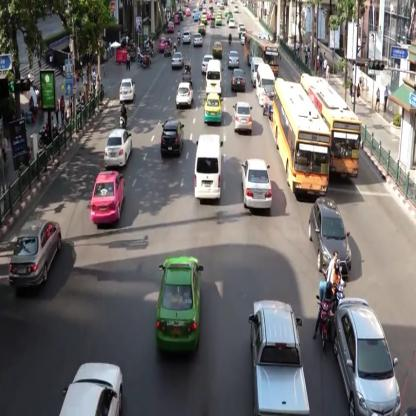bus: (273, 80, 330, 192), (302, 74, 359, 178), (246, 27, 278, 74)
car: (334, 301, 401, 415), (251, 297, 310, 415), (158, 257, 202, 351), (308, 198, 351, 278), (60, 362, 124, 415), (10, 218, 61, 284), (92, 169, 126, 224), (240, 158, 273, 209), (103, 128, 132, 171), (160, 118, 184, 155), (234, 100, 253, 131), (205, 93, 223, 122), (175, 81, 193, 106), (121, 78, 136, 101), (230, 66, 245, 89), (172, 50, 183, 68), (230, 48, 239, 68)
motocycle: (319, 281, 333, 346), (328, 252, 343, 303), (119, 101, 127, 131), (228, 33, 234, 48)
person: (60, 90, 66, 121), (375, 86, 382, 112), (348, 77, 354, 103), (384, 85, 389, 108)
van: (195, 134, 224, 200), (255, 62, 276, 102), (206, 59, 223, 94), (251, 56, 264, 88)
